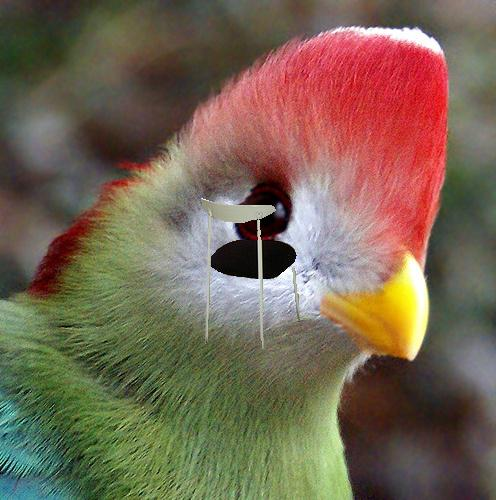tampered: (202, 199, 300, 349)
